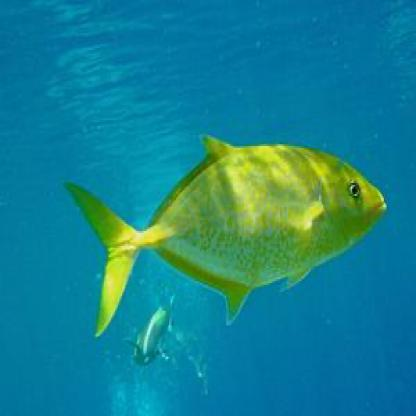jack: (62, 130, 400, 347)
